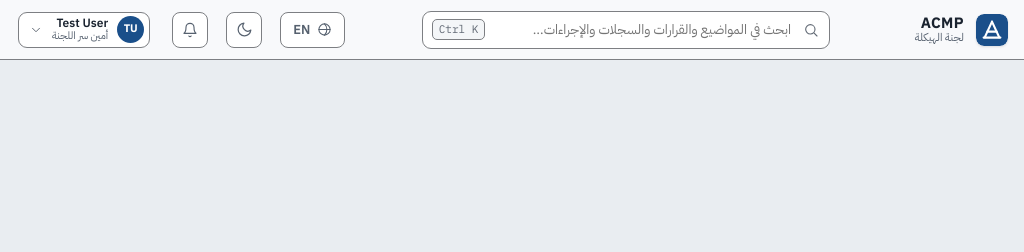
Scenario: TopBar profile menu › renders the Arabic Log out label when the locale is AR
Step 1. Click the button with aria-label "قائمة الحساب" → [84, 30], box [18,12,150,48]
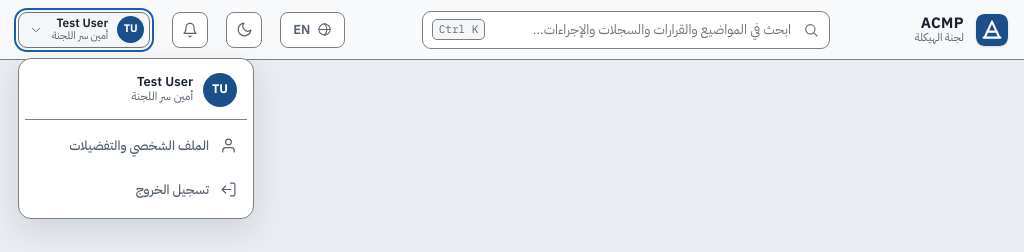
Check: the menu item "تسجيل الخروج" is shown, box [25,168,247,212]
